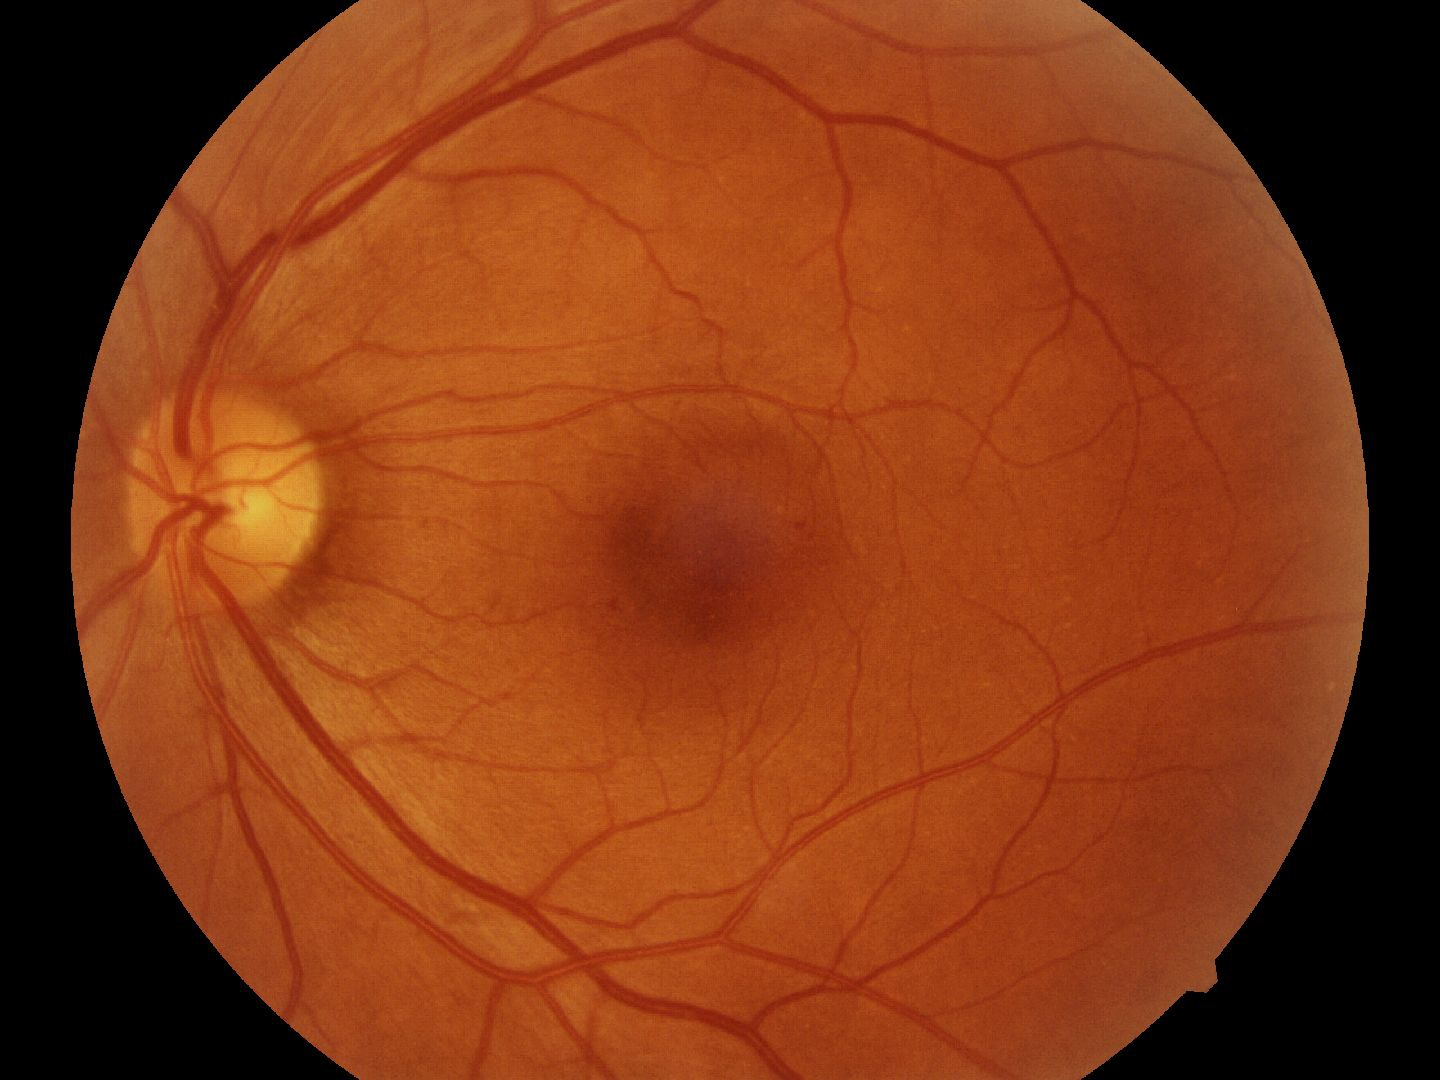Hemorrhages: (596, 436, 762, 660)
Optic-Disc: (128, 383, 327, 627)
Venules: (305, 711, 645, 997), (260, 71, 478, 275)
